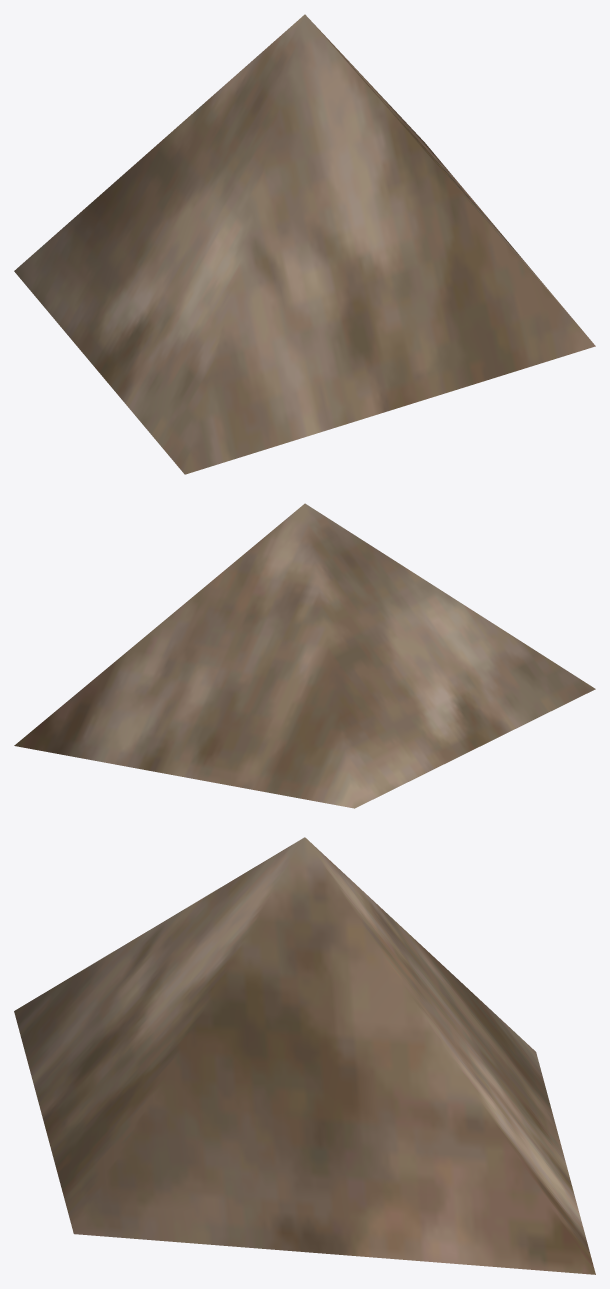
The model's file is OVERHILL_A_01_PLANE14.fbx.
3 views of the same model, one above another, from view 1: azimuth 30°, elevation 25°; view 2: azimuth 150°, elevation 25°; view 3: azimuth 270°, elevation 25° (orthographic). The views are drawn at different scales.
Parts seen in each view (by area): view 1: OVERHILL_A_01_PLANE14; view 2: OVERHILL_A_01_PLANE14; view 3: OVERHILL_A_01_PLANE14.
Part boxes in pixels (x1=…): OVERHILL_A_01_PLANE14: x1=14, y1=14, x2=595, y2=474; OVERHILL_A_01_PLANE14: x1=14, y1=503, x2=595, y2=808; OVERHILL_A_01_PLANE14: x1=14, y1=837, x2=595, y2=1274.
Bounding box in the file's own units: 1164 × 630 × 1086.
1 material, 1 textured.
